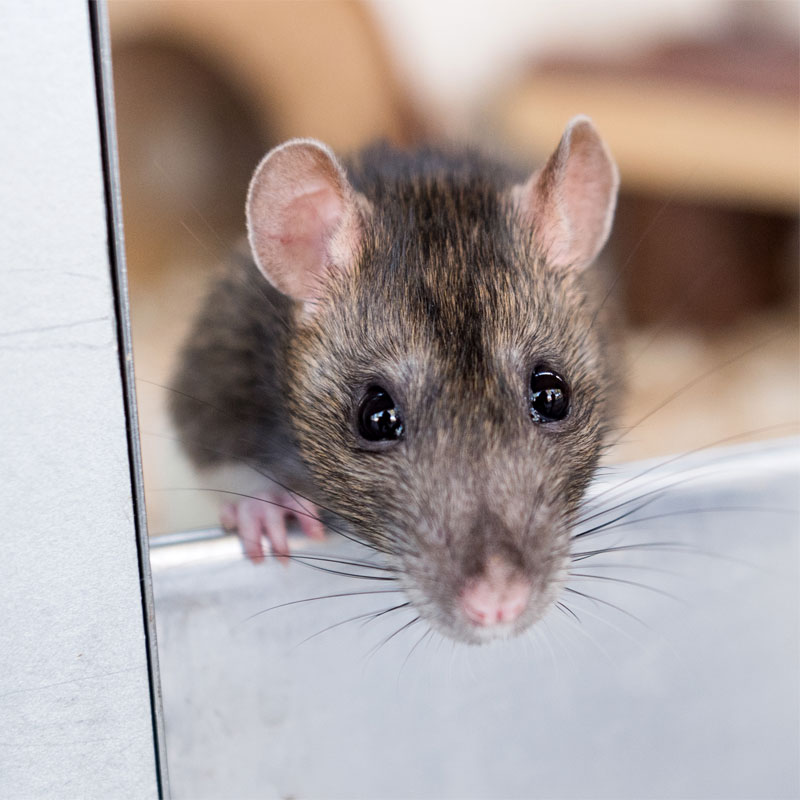rat: (145, 106, 661, 661)
